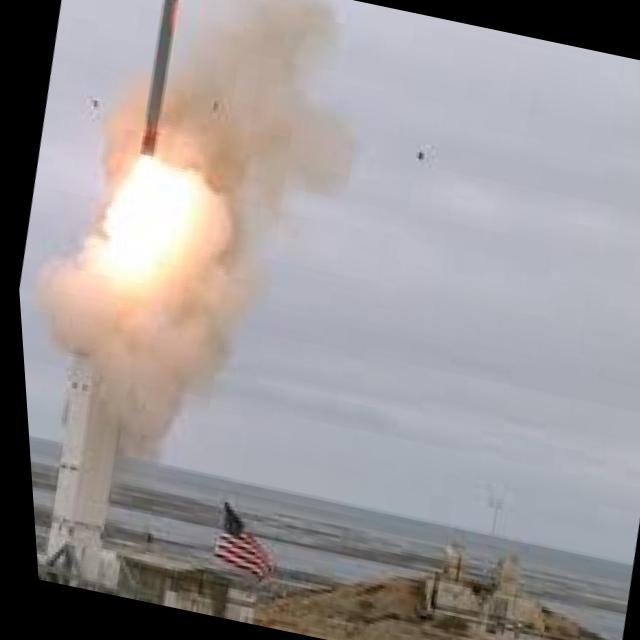missile: (121, 0, 201, 181)
